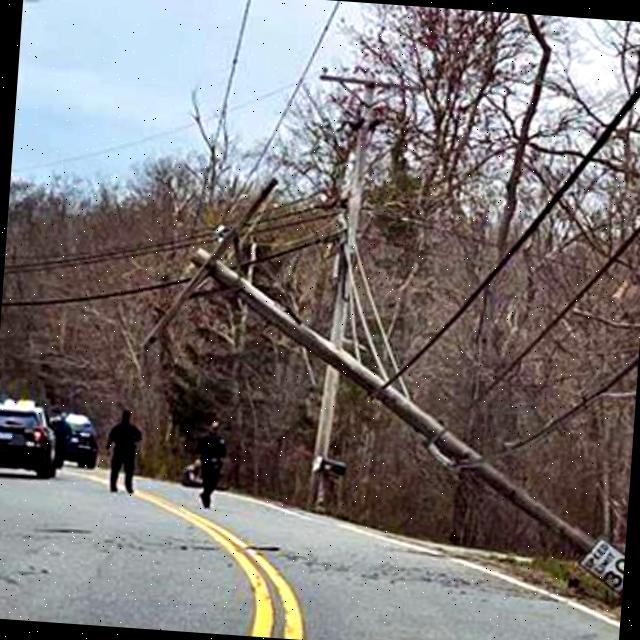Broken Pole: (122, 163, 624, 585)
